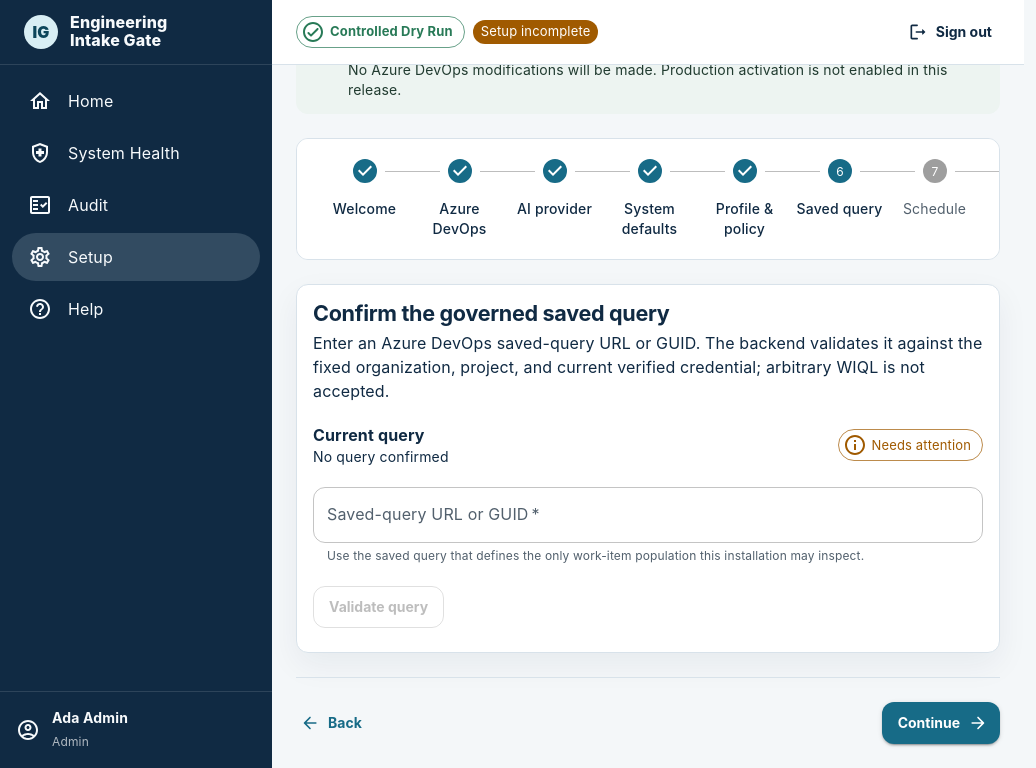
Test: UI-014 Phase 4B saved-query preview has no automated axe violations
(page scrolled)
In the field labelled "Saved-query URL or GUID *": {"x": 648, "y": 515} left=313, top=487, right=983, bottom=543, type "11111111-1111-1111-1111-111111111111"
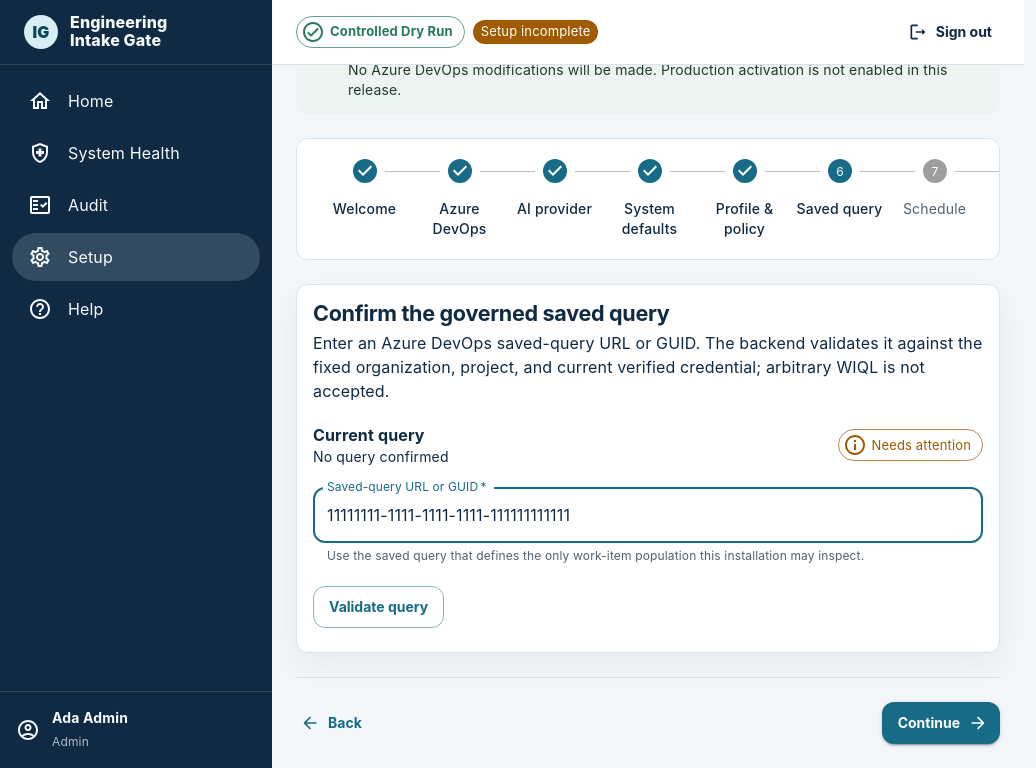
Click the button "Validate query": {"x": 379, "y": 607} left=313, top=586, right=444, bottom=628
(page scrolled)
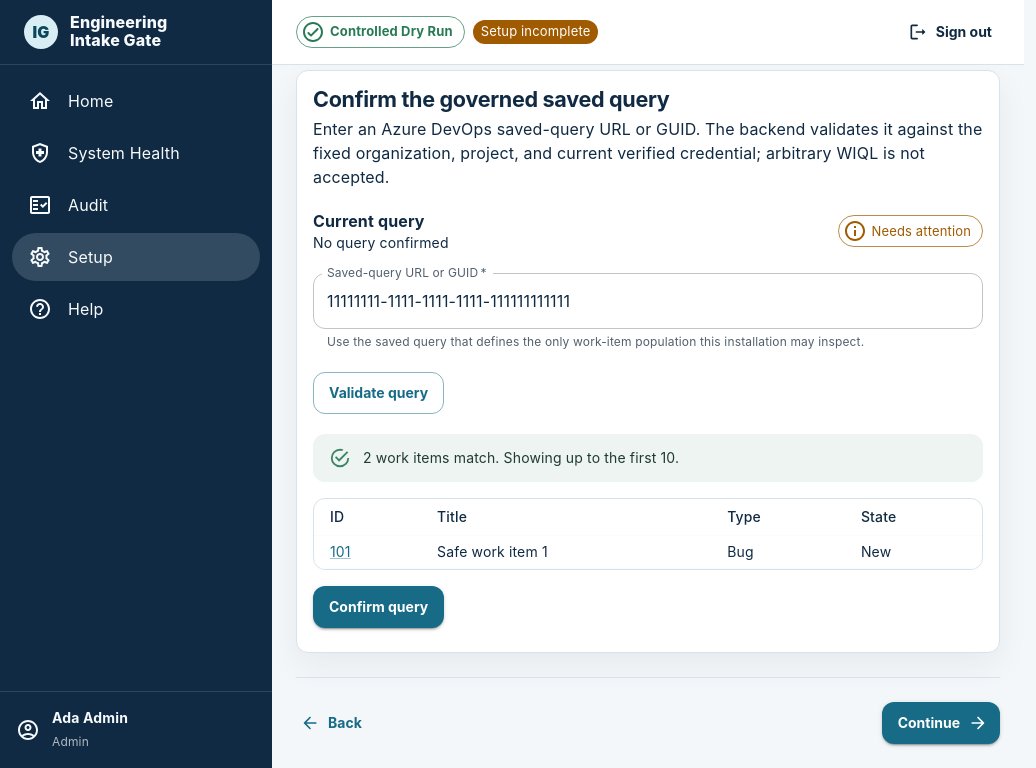
Now the table named "Saved query preview" is shown, box left=314, top=499, right=982, bottom=569
